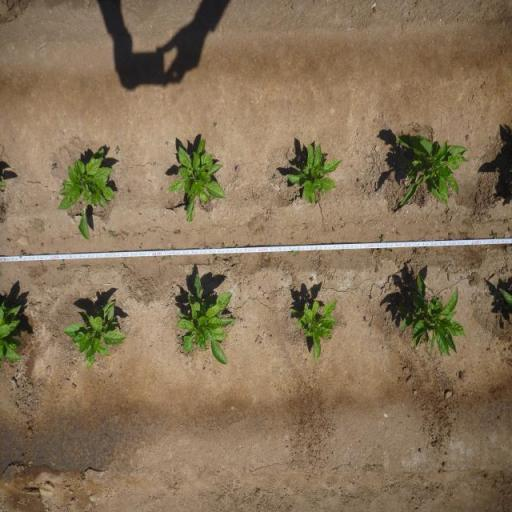plant: (394, 271, 468, 363), (397, 131, 469, 209), (177, 271, 233, 366), (58, 142, 116, 232), (56, 297, 126, 369), (169, 137, 226, 222), (286, 142, 346, 204), (290, 297, 339, 367), (0, 297, 27, 366)
weed: (386, 174, 395, 184), (49, 162, 58, 171), (108, 229, 116, 239), (56, 264, 66, 272), (18, 250, 26, 258), (491, 231, 499, 239), (420, 246, 430, 252), (114, 146, 120, 155), (231, 318, 237, 327), (174, 229, 182, 235), (379, 234, 385, 242), (170, 244, 176, 250), (254, 229, 260, 235), (272, 174, 278, 180), (292, 250, 298, 256), (384, 248, 390, 254), (414, 250, 420, 256), (212, 122, 218, 128), (377, 247, 382, 254), (160, 256, 166, 261), (152, 160, 156, 167), (331, 228, 336, 233), (221, 242, 225, 248), (234, 244, 240, 248), (358, 178, 362, 184), (309, 278, 314, 282), (212, 254, 218, 257), (139, 246, 142, 252), (449, 232, 453, 236), (154, 256, 160, 258), (166, 141, 168, 145), (398, 232, 400, 236)
